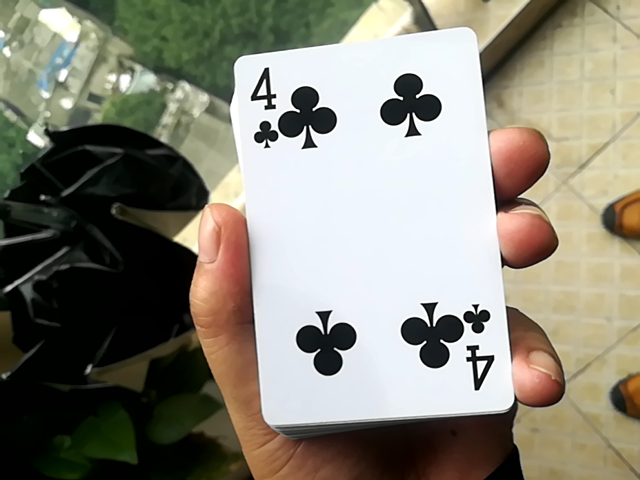mh 4: (215, 10, 495, 428)
